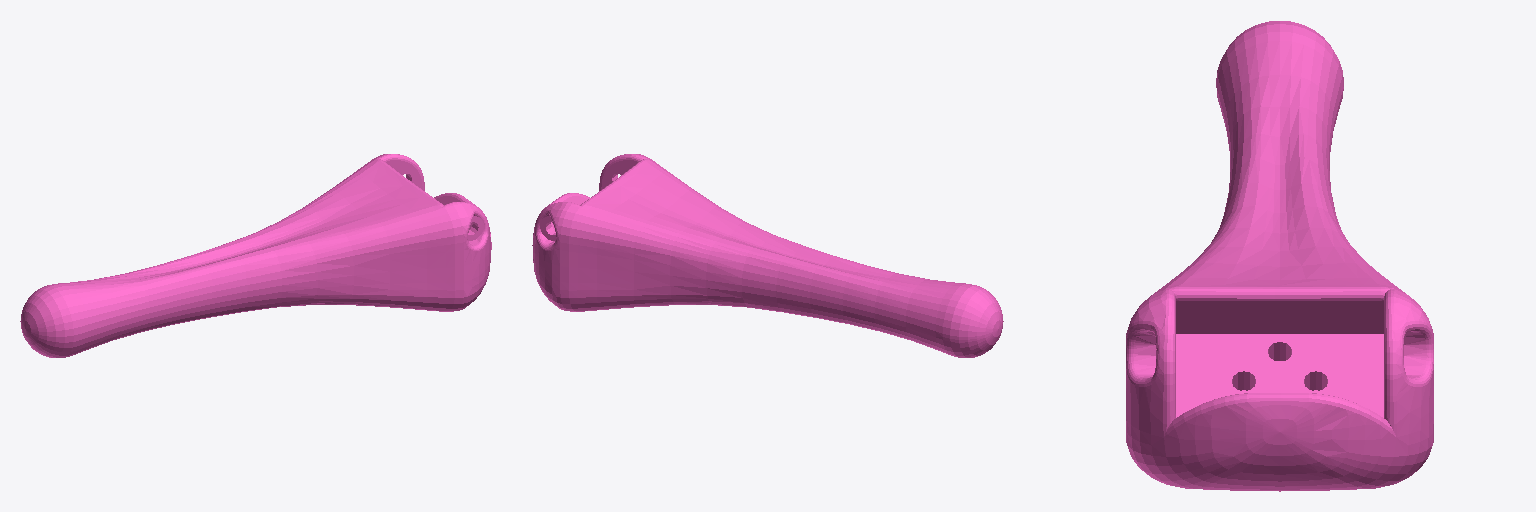
URDF robot description (Calf4):
<?xml version="1.0" encoding="utf-8"?>
<!-- This URDF was automatically created by SolidWorks to URDF Exporter! Originally created by [author] ([email redacted]) 
     Commit Version: 1.5.1-0-g916b5db  Build Version: 1.5.7152.31018
     For more information, please see http://wiki.ros.org/sw_urdf_exporter -->
<robot
  name="Calf4">
  <link
    name="Test">
    <inertial>
      <origin xyz="-0.040981 -2.59190000000008E-06 -0.0012596" rpy="0 0 0" />
      <mass value="0.03016" />
      <inertia
        ixx="6.5663E-06"
        ixy="1.6484999999999E-09"
        ixz="1.6903E-06"
        iyy="6.2742E-05"
        iyz="5.89710000000156E-10"
        izz="6.5294E-05" />
    </inertial>
    <visual>
      <origin
        xyz="0 0 0"
        rpy="1.5707963267949 0 0" />
      <geometry>
        <mesh
          filename="package://Test/meshes/Test.STL" />
      </geometry>
      <material
        name="">
        <color
          rgba="1 0.47059 0.82353 1" />
        <texture
          filename="package://Test/textures/" />
      </material>
    </visual>
    <collision>
      <origin
        xyz="0 0 0"
        rpy="1.5707963267949 0 0" />
      <geometry>
        <mesh
          filename="package://Test/meshes/Test.STL" />
      </geometry>
    </collision>
  </link>
</robot>

--- What the picture shows (computed from the rendered views, not written in the file) ---
The picture shows the robot from 3 angles, left to right: view 1: azimuth 30°, elevation 25°; view 2: azimuth 150°, elevation 25°; view 3: azimuth 270°, elevation 25°; orthographic projection.
Robot: Calf4 — 1 links, 0 joints (none); root link Test; default pose: all joints at 0.
Visible links, largest first — view 1: Test; view 2: Test; view 3: Test.
Link boxes in pixels (box(x1,y1,x2,y2)): Test: box(20, 154, 491, 357); Test: box(532, 154, 1003, 357); Test: box(1126, 21, 1433, 491).
Bounding box of the posed robot: 0.1725 × 0.06 × 0.0398 m (x, y, z).
1 mesh visuals loaded from 1 distinct referenced files (1 binary STL).